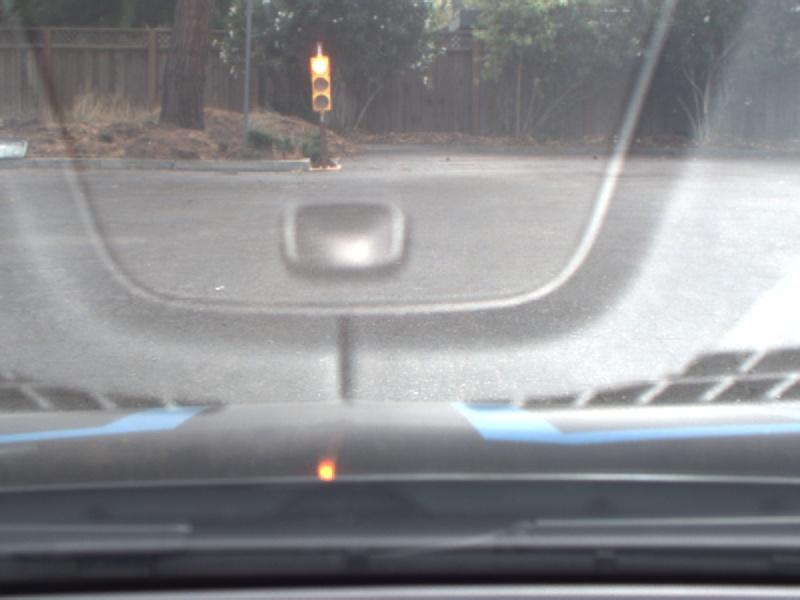red: (308, 54, 336, 113)
